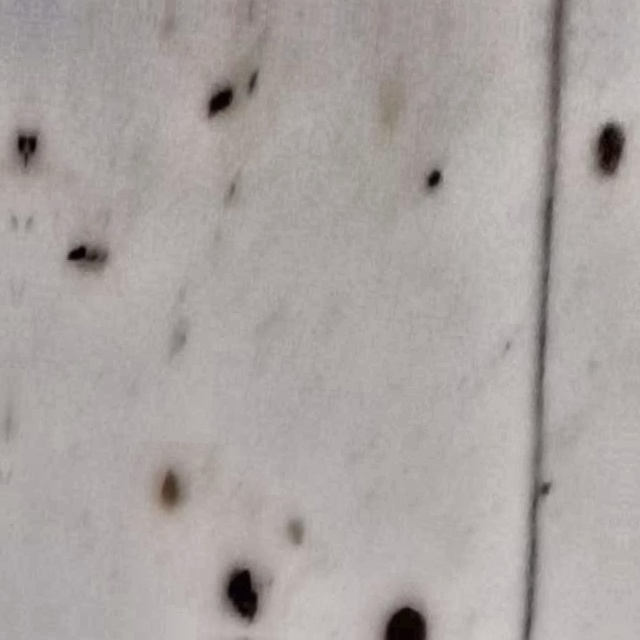varroa: (590, 118, 629, 182)
